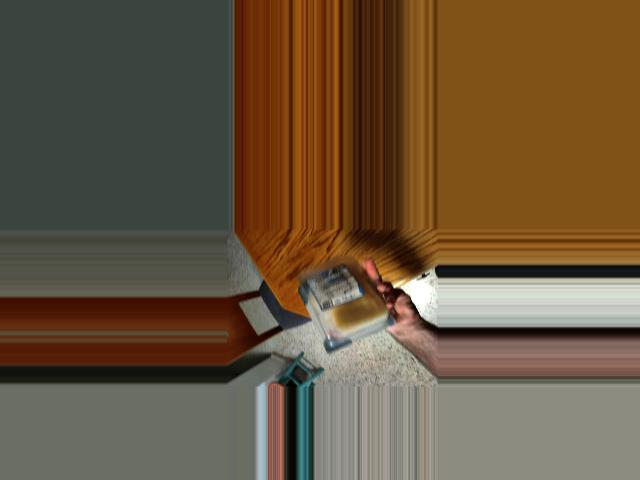cheese: (298, 261, 371, 352)
